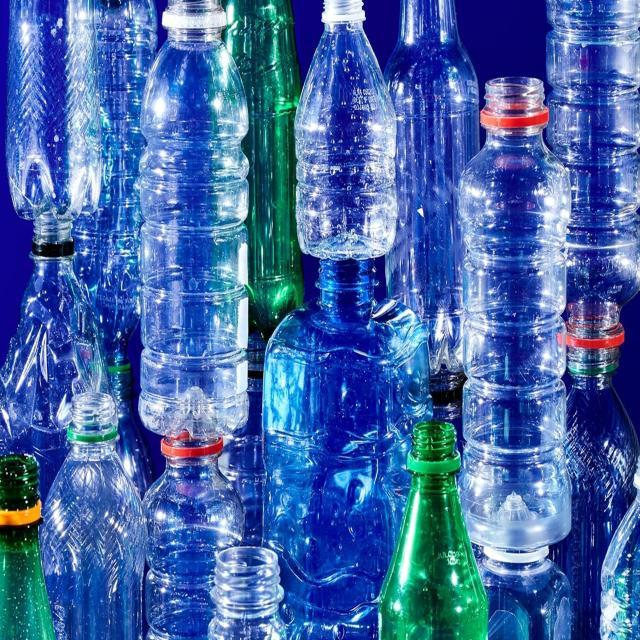Plastic: (264, 262, 430, 640), (457, 77, 572, 563), (130, 0, 252, 444), (385, 0, 480, 373), (0, 211, 103, 507), (224, 0, 304, 341), (546, 0, 640, 285), (296, 0, 398, 262), (45, 393, 145, 640), (566, 311, 640, 640), (377, 423, 489, 640), (6, 0, 101, 221), (142, 439, 245, 640), (0, 457, 55, 640)
